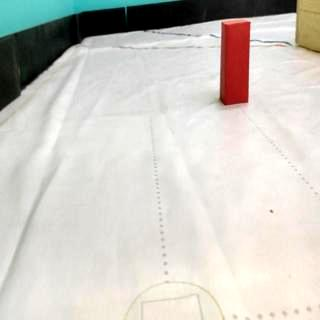redbox: (220, 18, 252, 105)
